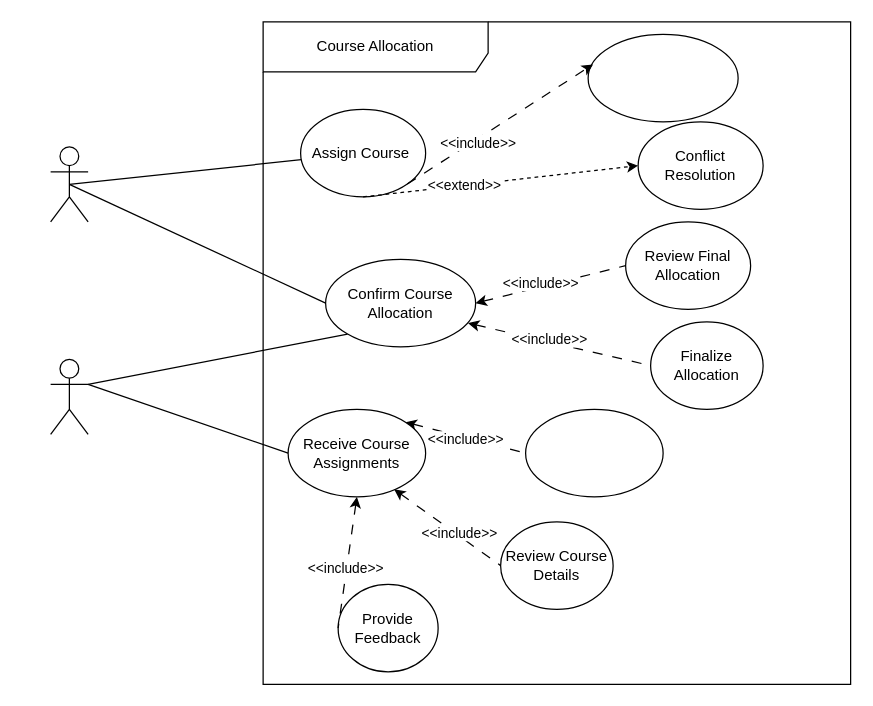
Some shapes in this 873 by 706 pixel diagram are drawn without their labels. Here are the shapes that lost their labels. From the top down, the centre of each, then its label:
At [662,77]: "Validate Instructor Availability".
At [68,184]: "Administration".
At [68,396]: "Instructor".
At [593,452]: "Validate Course Assignments".
